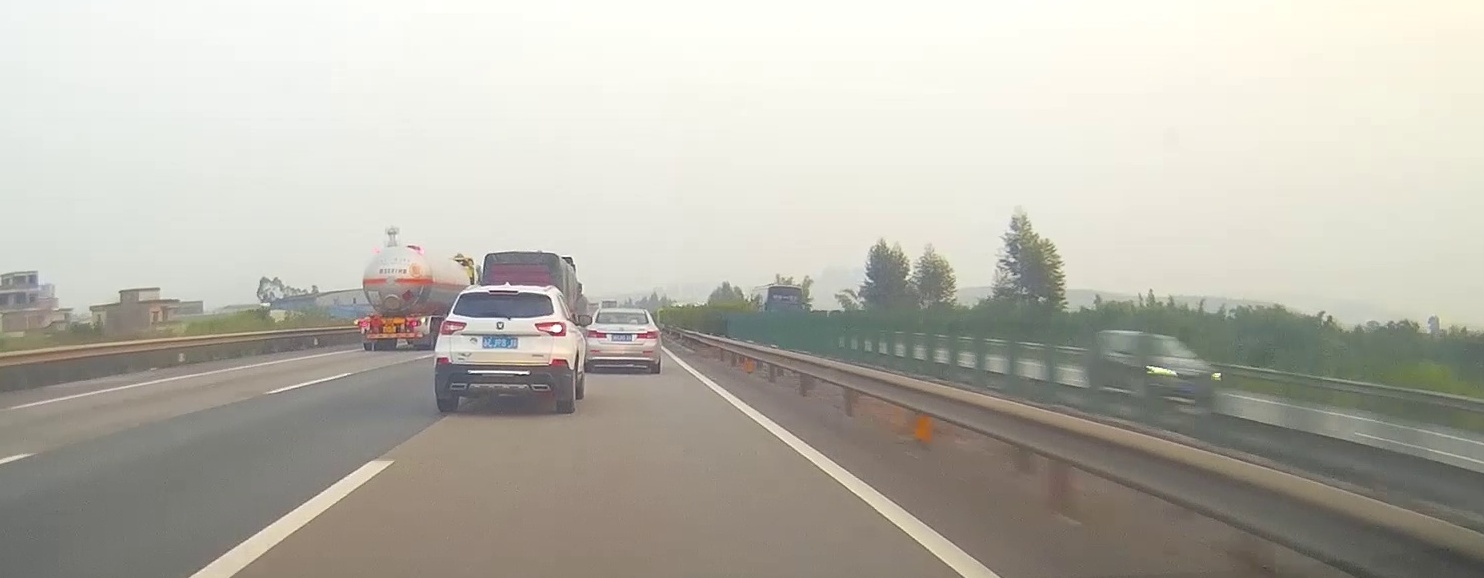L_light: (440, 320, 467, 335), (585, 328, 608, 338), (359, 322, 369, 327)
R_light: (535, 321, 566, 336), (636, 330, 658, 338), (407, 321, 420, 327)
T_light: (489, 289, 520, 294), (385, 317, 394, 321), (616, 312, 627, 315)
day-brake: (354, 316, 431, 351)
day-no: (584, 307, 661, 374)
day-right: (435, 284, 575, 412)
